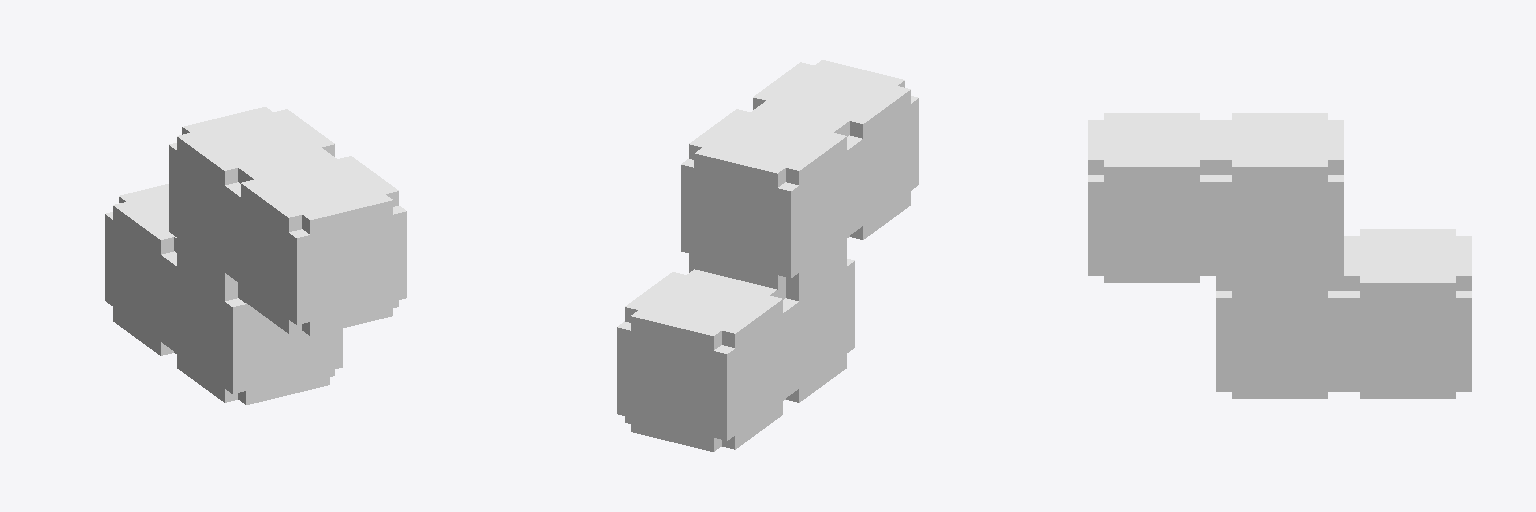
The model's file is tetris_z.obj.
The picture shows the model from 3 angles: view 1: azimuth 30°, elevation 25°; view 2: azimuth 150°, elevation 25°; view 3: azimuth 270°, elevation 25°; orthographic projection.
Visible parts, largest first — view 1: object 1; view 2: object 1; view 3: object 1.
Boxes of the visible parts, <box> form: object 1: <box>105,107,406,404</box>; object 1: <box>617,60,918,451</box>; object 1: <box>1088,113,1471,398</box>.
Bounding box in the file's own units: 0.8 × 1.6 × 2.4.